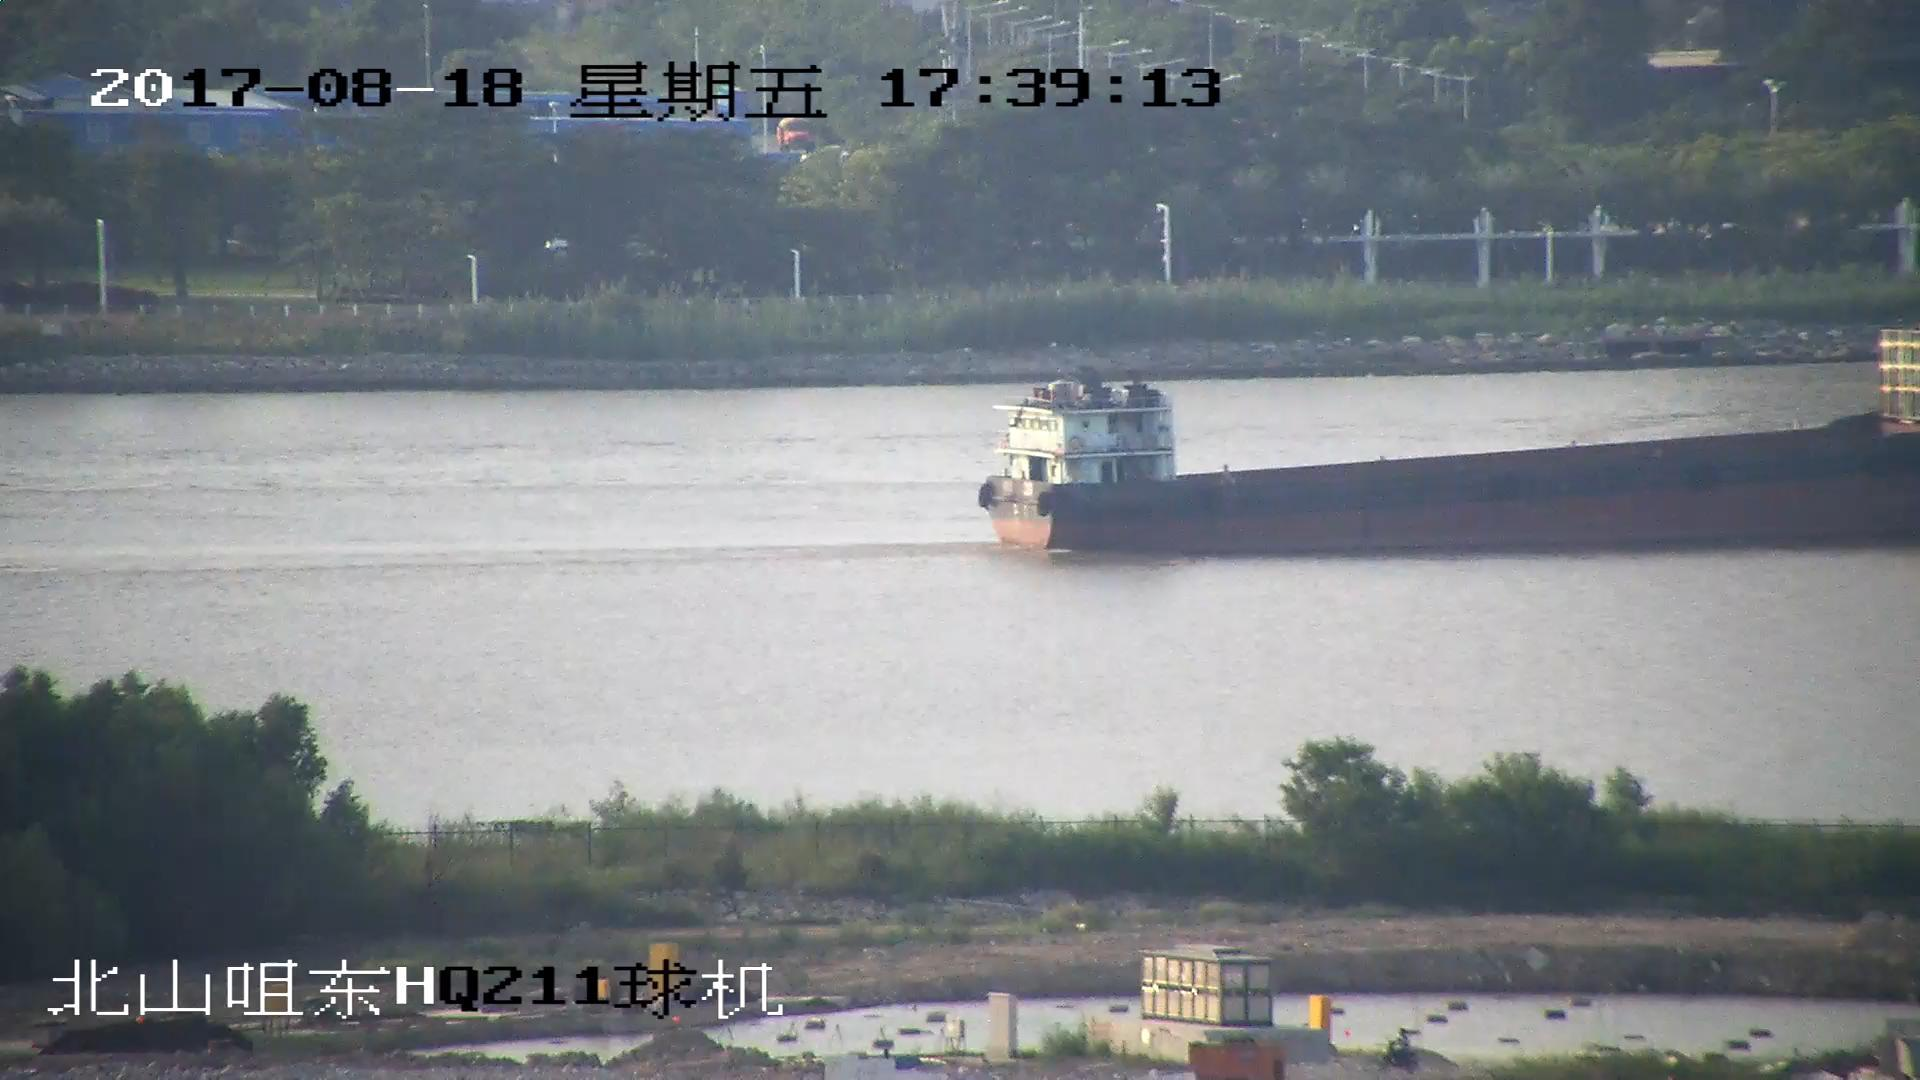Ship: (980, 335, 1920, 556)
